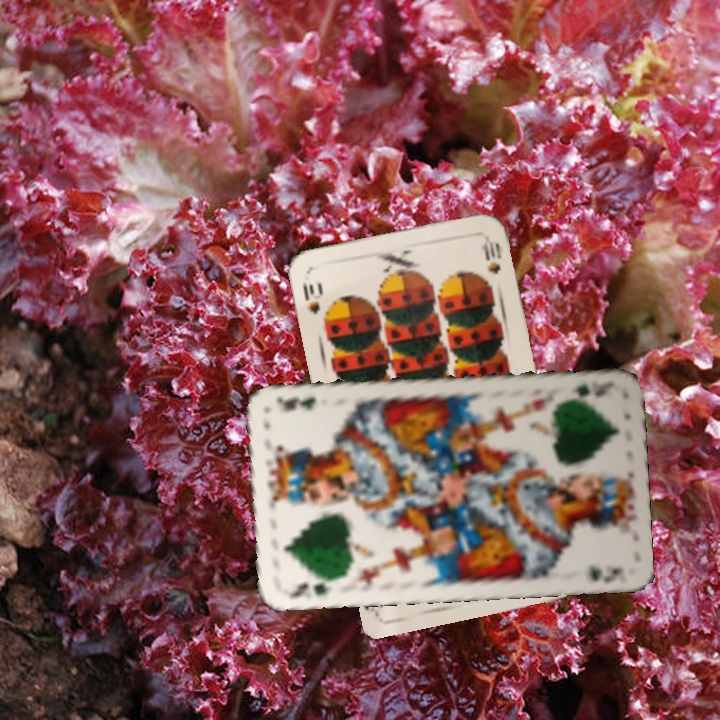GK: (279, 573, 337, 601), (568, 377, 617, 400)
S10: (298, 278, 322, 317)
